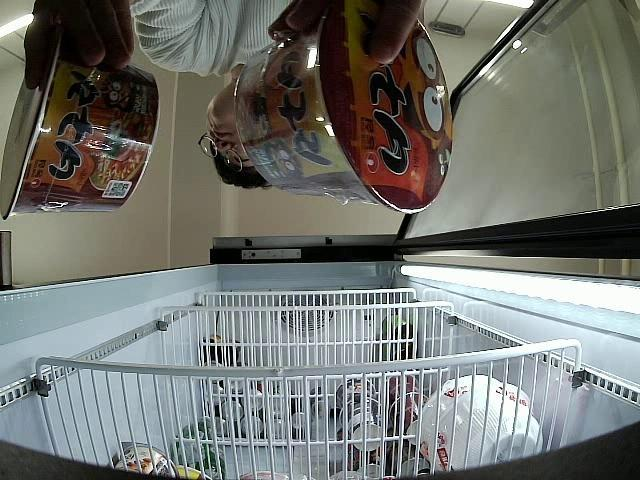05_nuguri_L: (234, 0, 453, 215), (0, 39, 159, 222)
